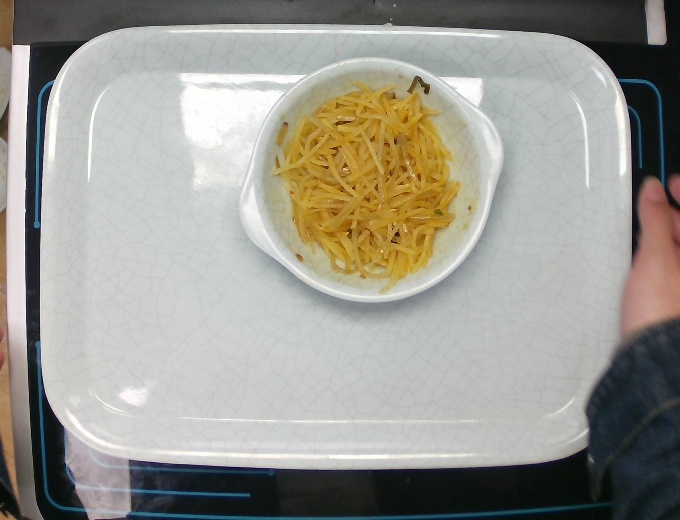JYsf-Shuang_Er_Wan: (233, 55, 508, 303)
